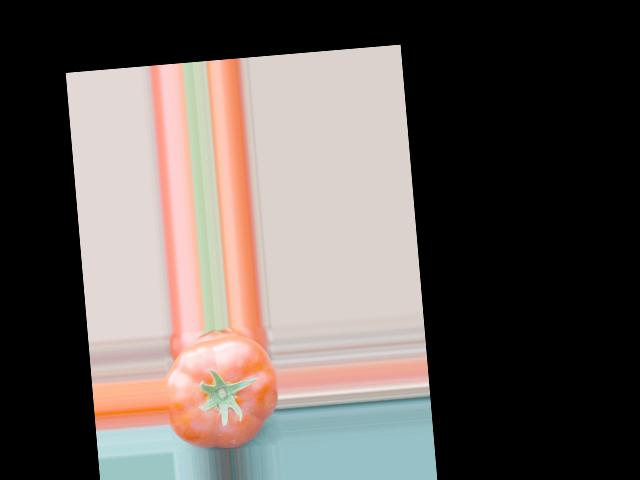tomato: (162, 331, 283, 452)
